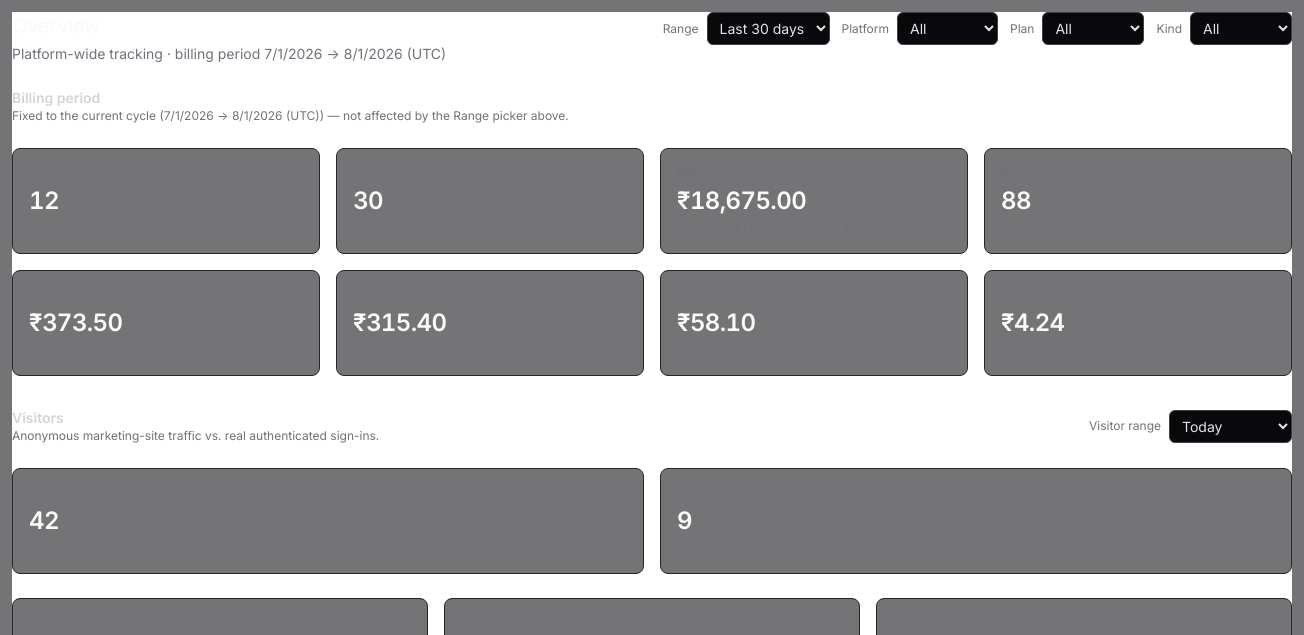
Overview page › shows visitor stats defaulting to Today, and re-fetches with a wider window when changed
Check: the text "12" is shown, box [29,186,59,215]
Check: the text "42" is shown, box [29,506,59,535]
Select "Last 30 days" in the dropdown labelled "Visitor range" at (1230, 426), box [1169,410,1292,442]
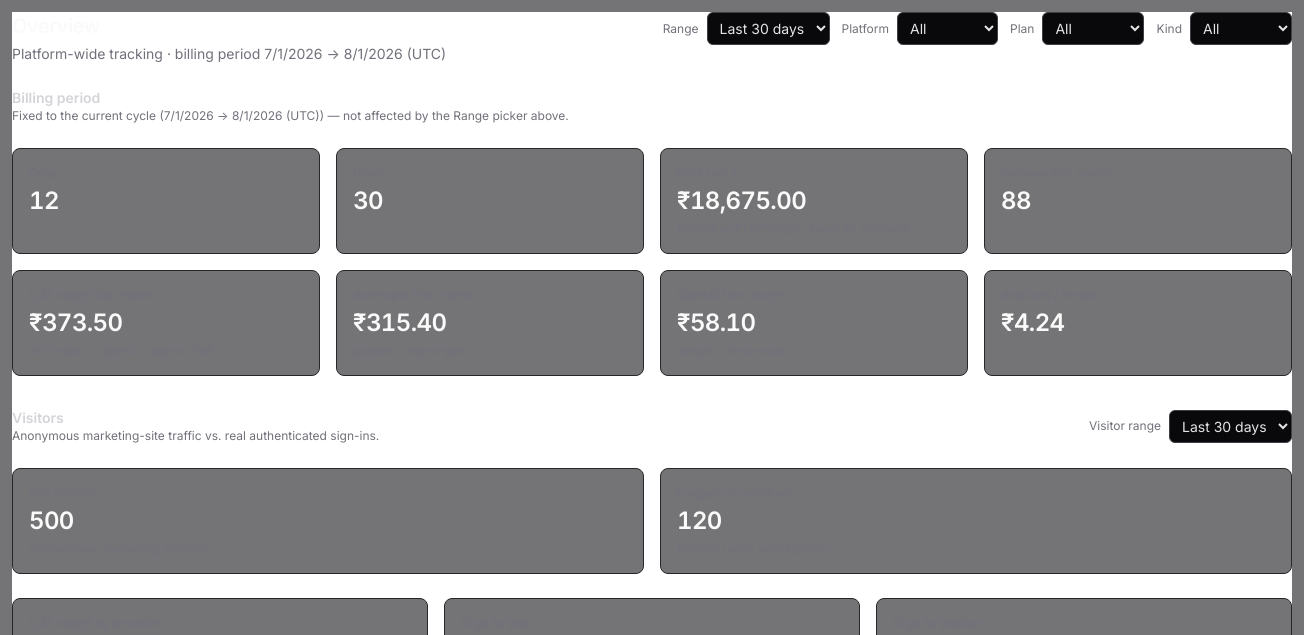
Check: the text "500" is shown, box [29,506,74,535]
Check: the text "120" is shown, box [677,506,722,535]
